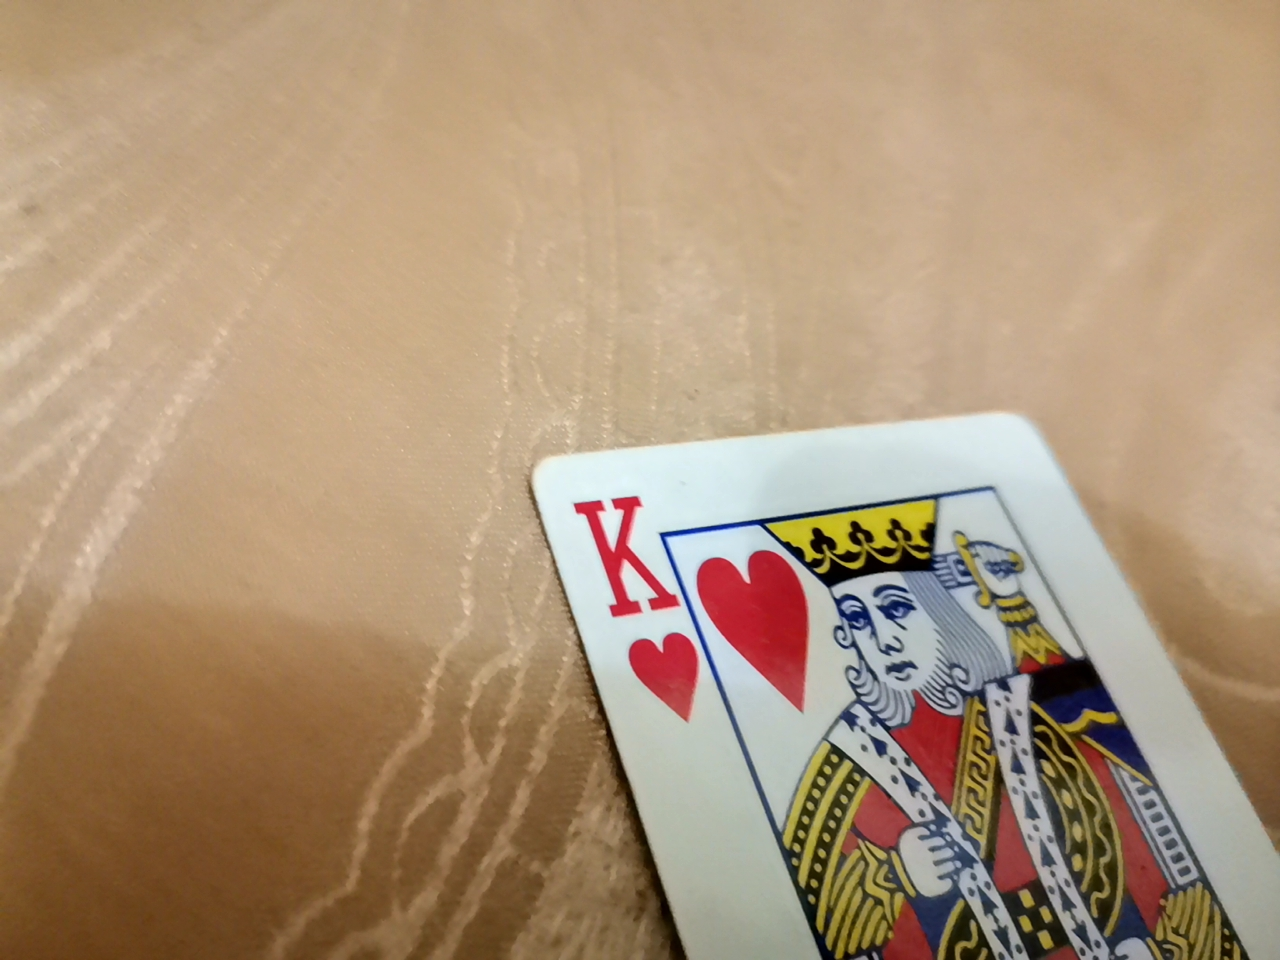hx k: (531, 404, 1280, 959)
